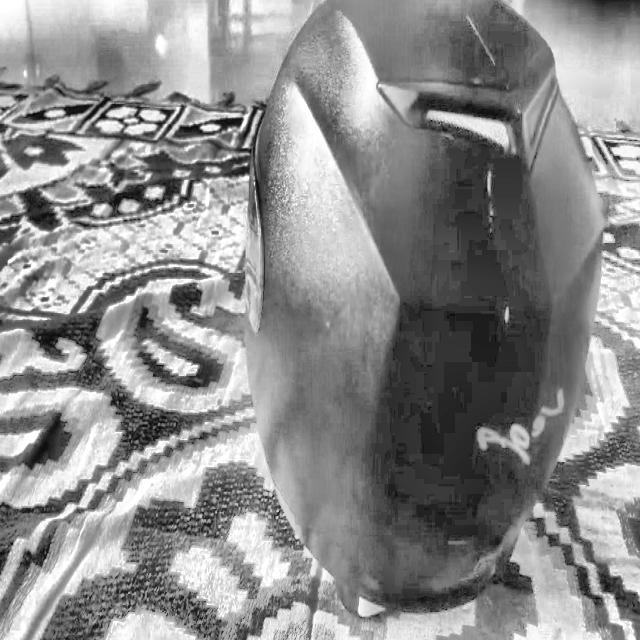Helmet: (241, 0, 608, 640)
